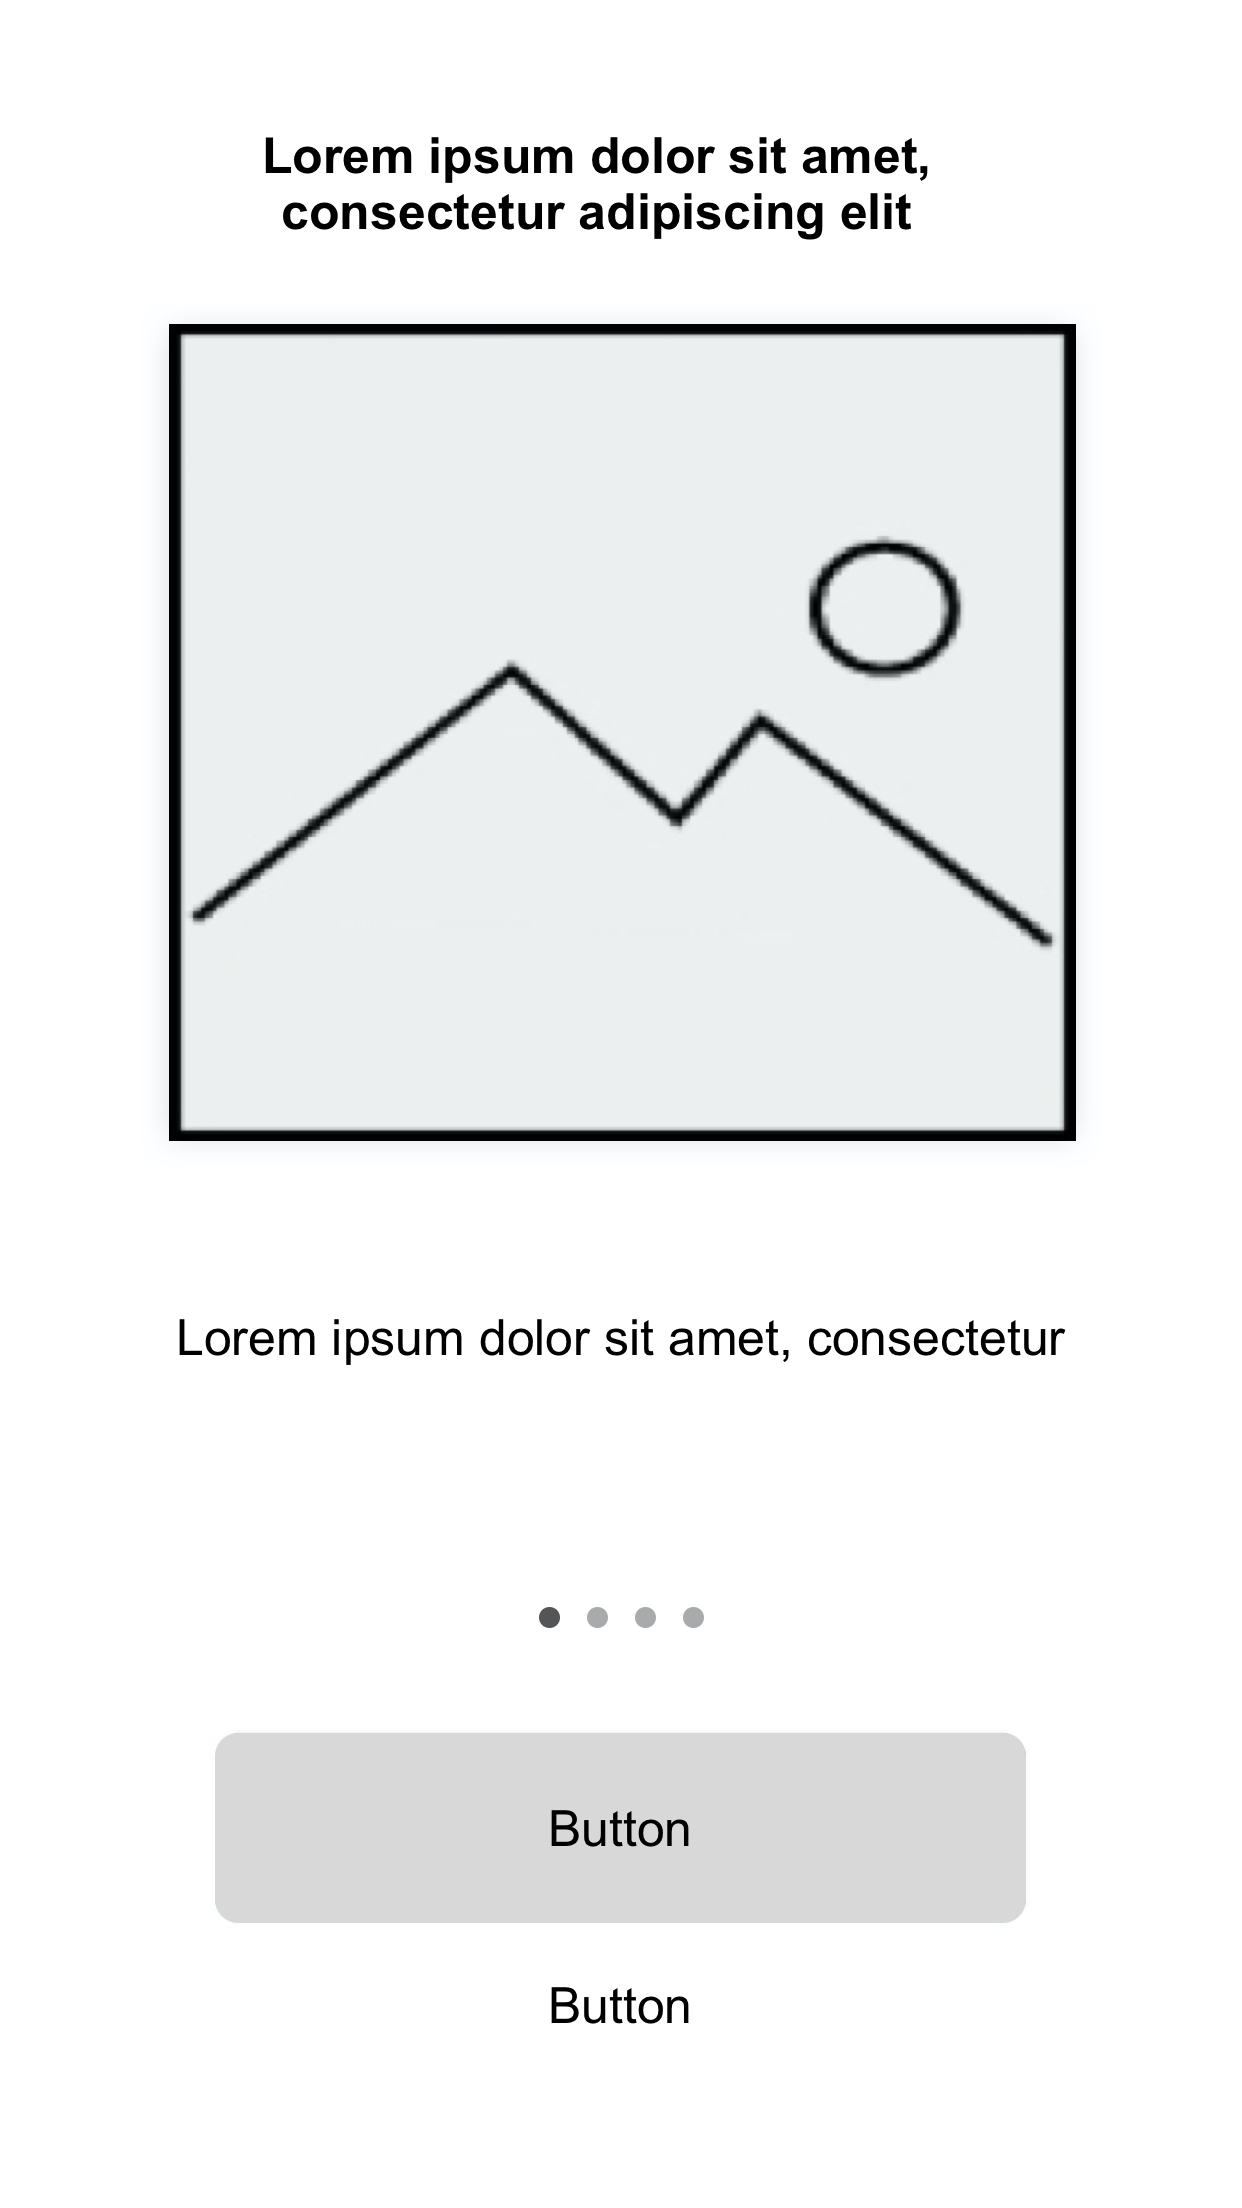Image: (168, 325, 1078, 1142)
PageIndicator: (538, 1606, 707, 1630)
Text: (265, 136, 930, 243), (179, 1319, 1068, 1366), (549, 1987, 692, 2026)
TextButton: (214, 1730, 1028, 1924)
